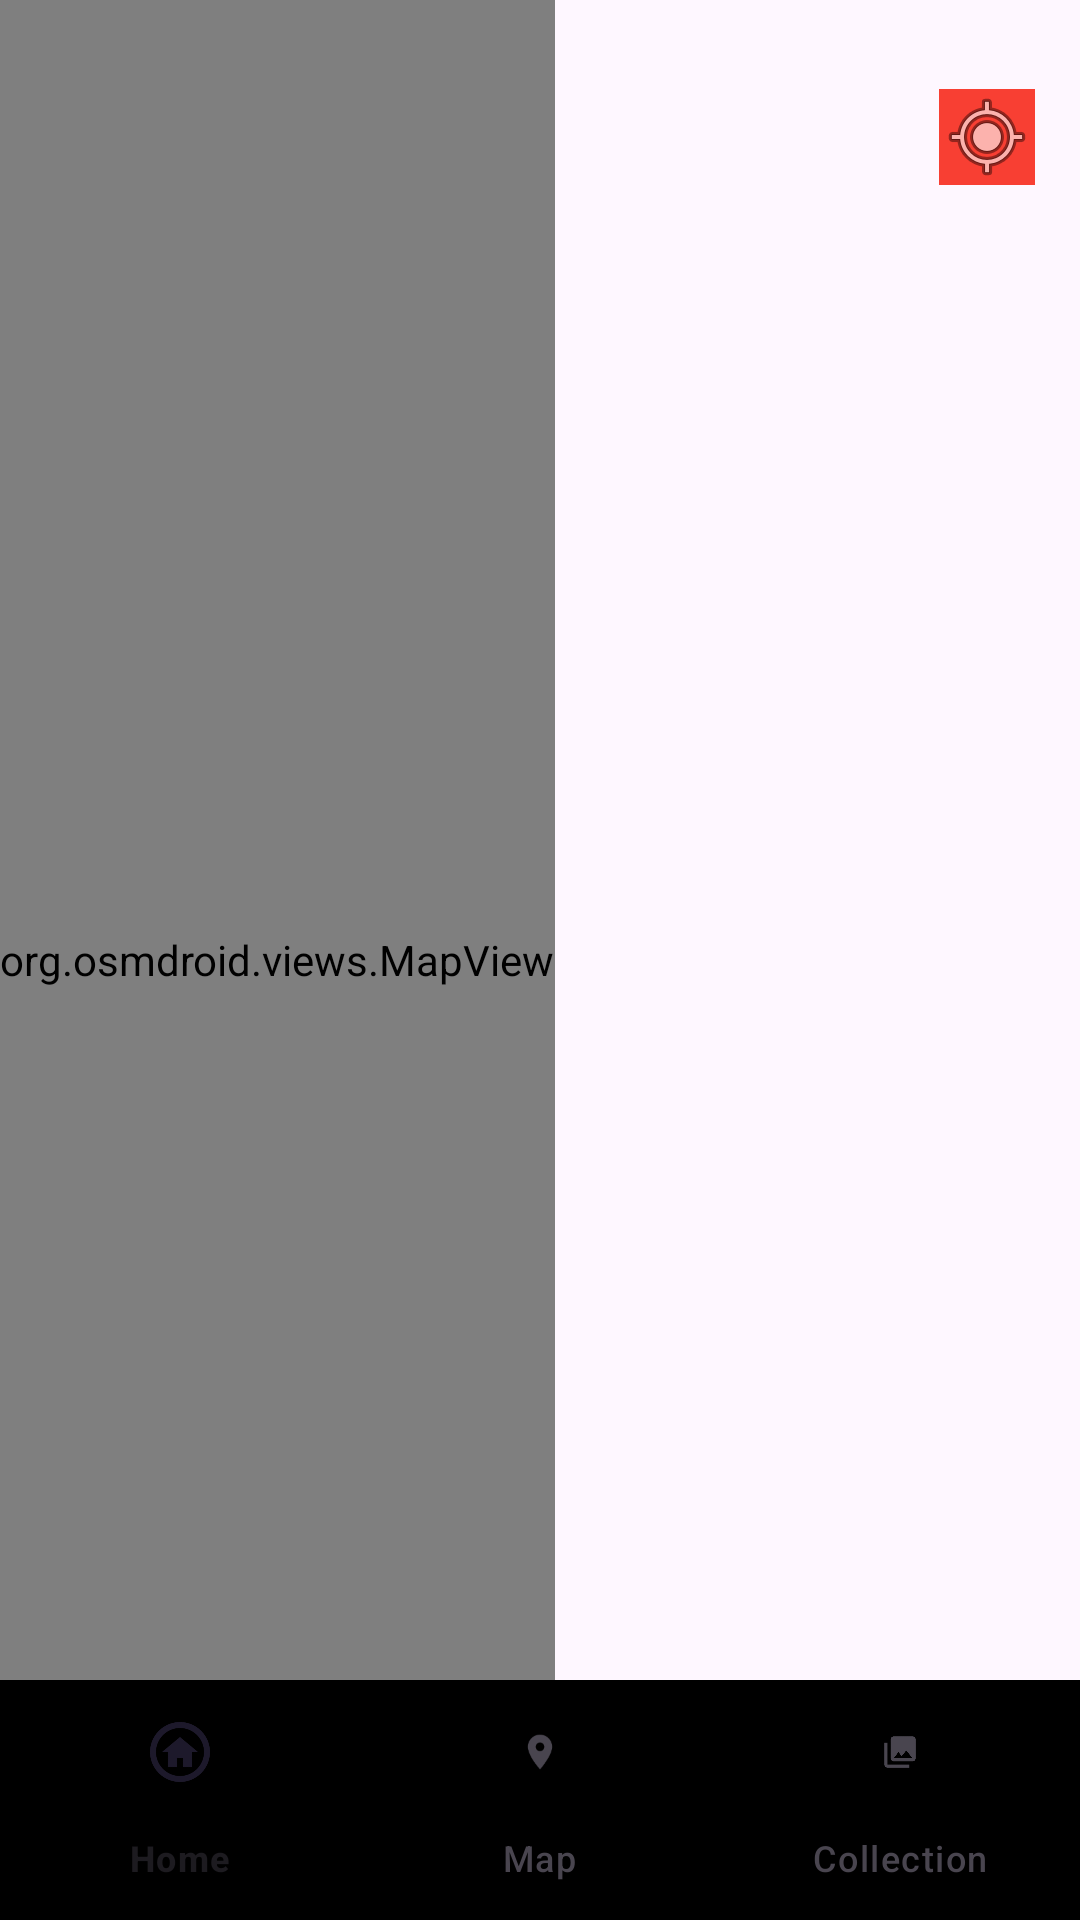

Icon click points for this 1080 × 1920 phone screenshot, format (x=x, y=y):
Agregar ubicación: (x=987, y=137)
